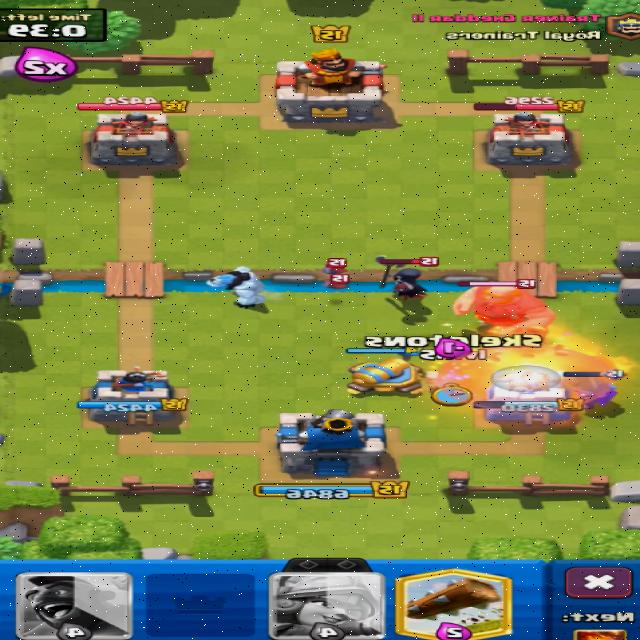Enemy-Bat: (324, 259, 347, 273), (329, 273, 348, 288)
Enemy-Giant: (454, 286, 554, 335)
Enemy-KingTower: (277, 48, 386, 123)
Enemy-NightWitch: (378, 255, 438, 301)
Enemy-PrincessTower: (487, 111, 573, 170), (91, 113, 175, 165)
Player-Cannon: (348, 358, 422, 393)
Player-IceGolem: (209, 267, 264, 307)
Player-KingTower-Activated: (277, 409, 387, 477)
Player-Musketeer-Evo: (566, 378, 617, 410)
Player-PrincessTower: (79, 366, 189, 428), (475, 366, 570, 425)
